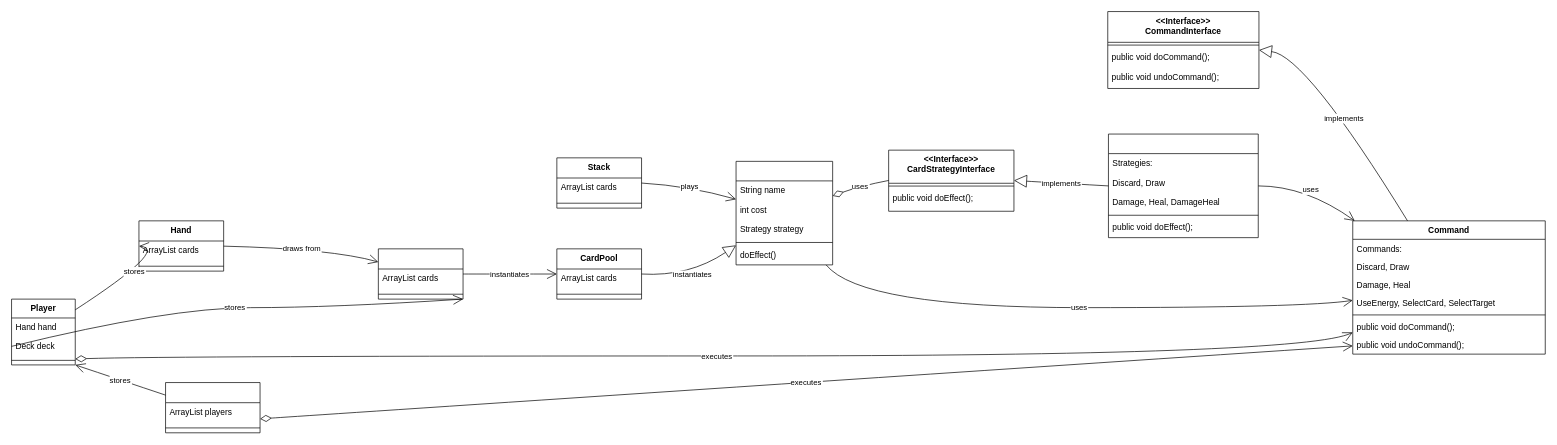
Image size: 1557x445. Some labels were removed from this diagram. Here are the shapes that lost their labels. From the top down, the box of each, then its label:
(1108, 133, 1258, 238): CardStrategy
(735, 161, 833, 265): Card
(378, 248, 463, 299): Deck
(165, 382, 260, 433): Game
